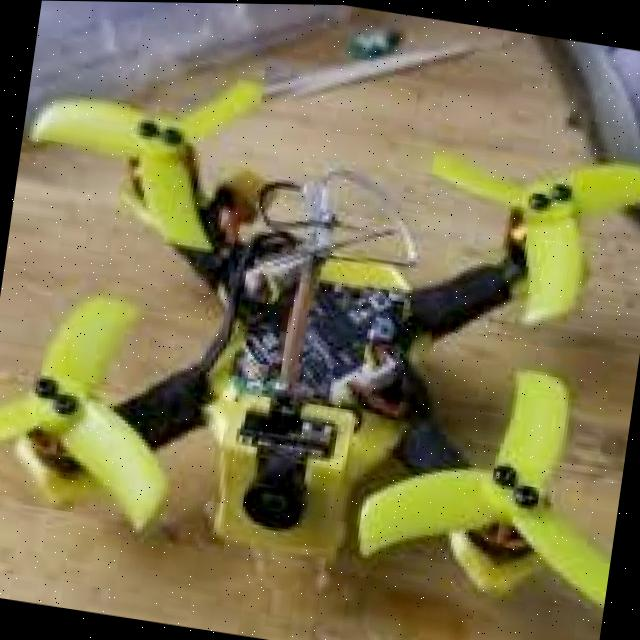drone: (0, 30, 640, 637)
